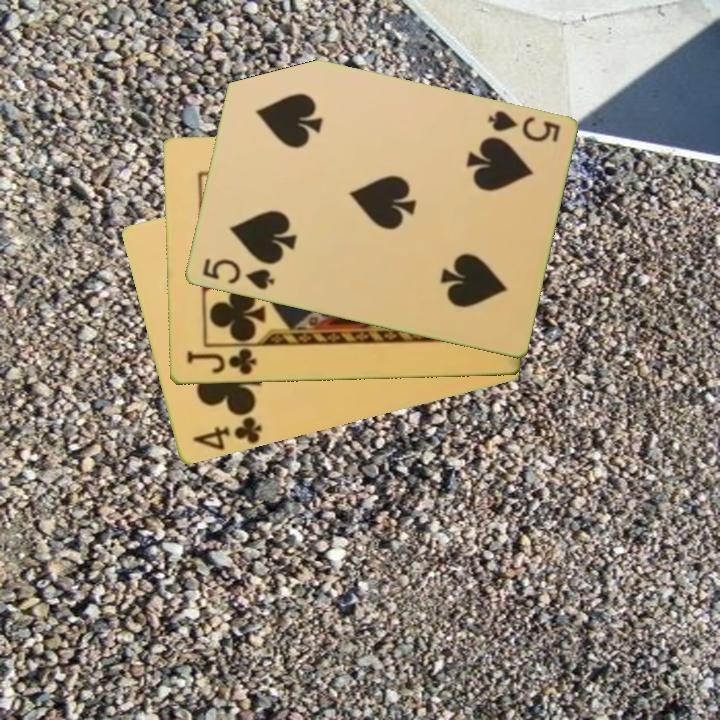4c: (189, 413, 265, 454)
5s: (483, 107, 563, 146), (198, 255, 277, 294)
Jc: (182, 345, 259, 379)
